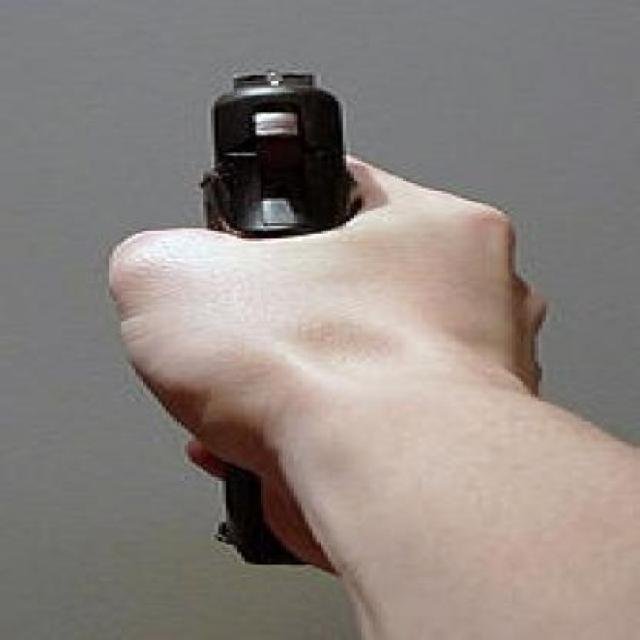gun: (158, 53, 386, 222)
